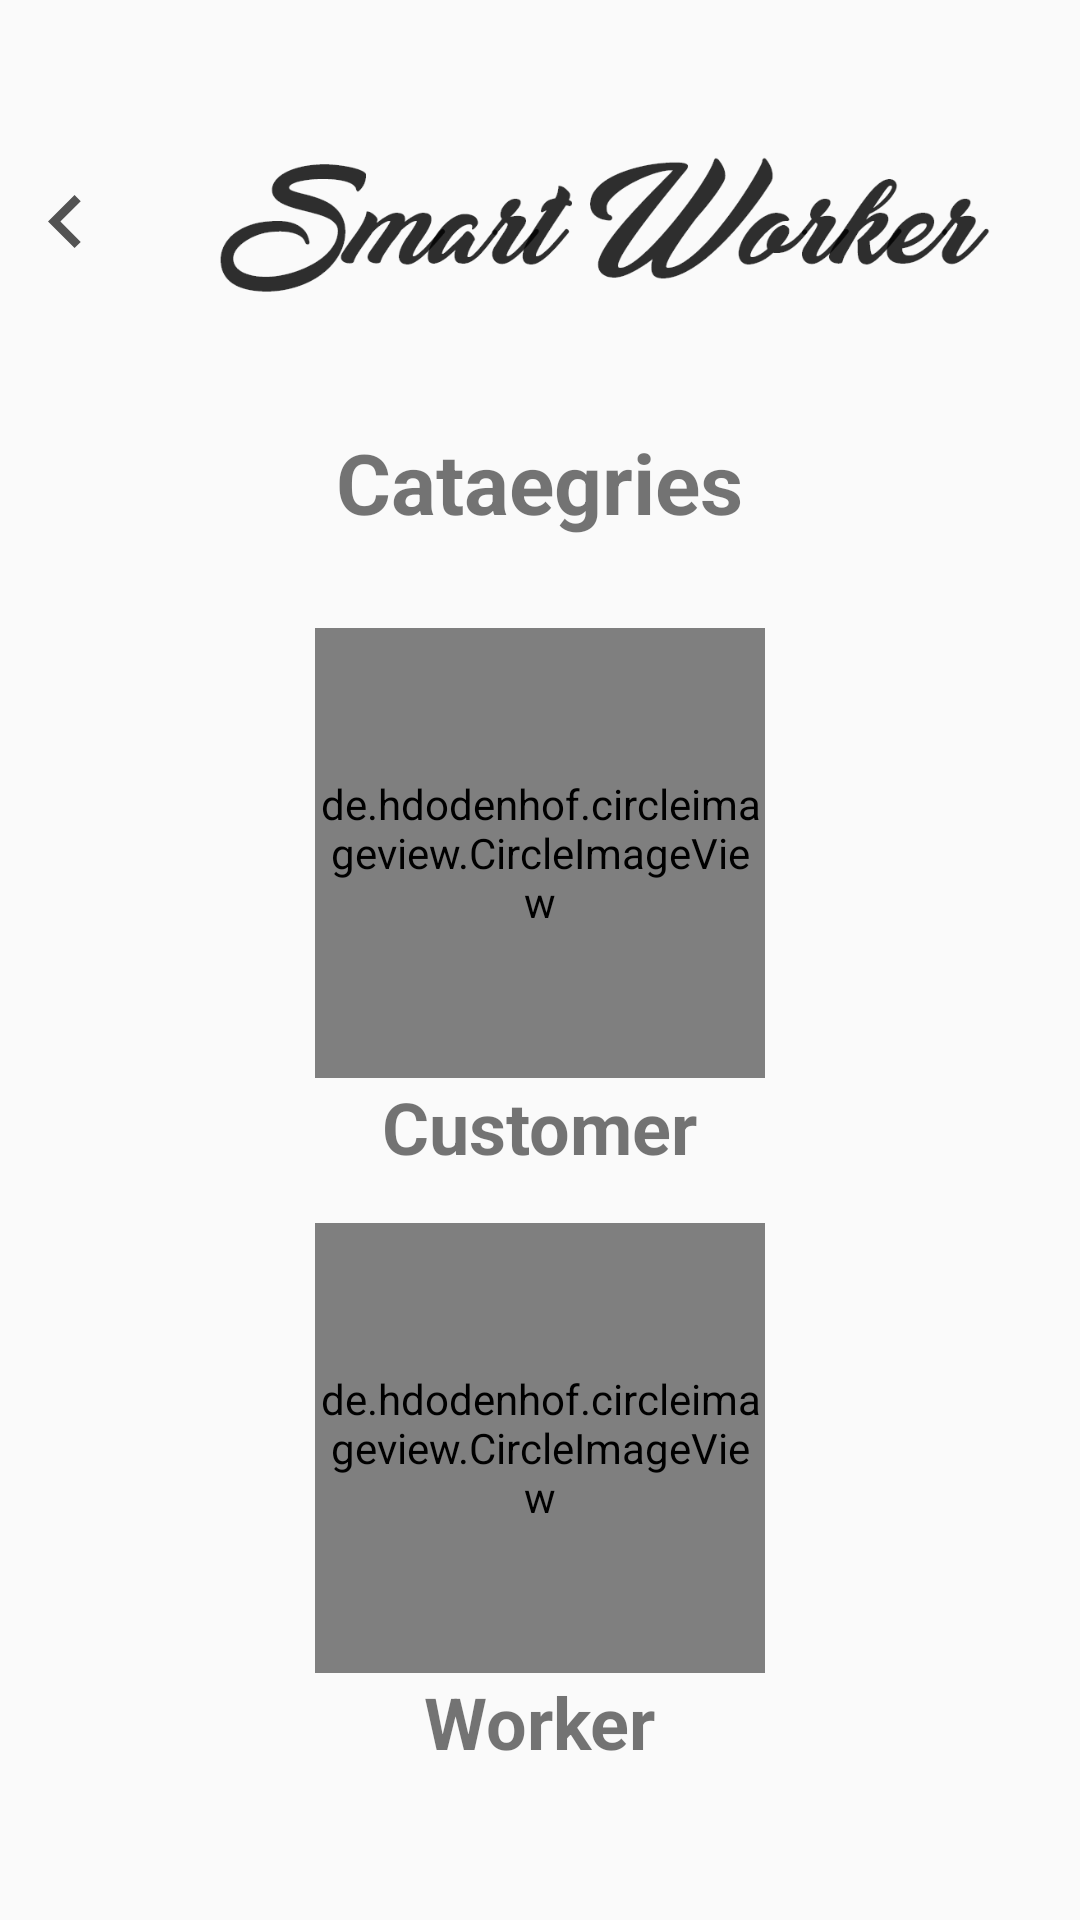

Named icons in this screenshot (1080 × 1920) and their centers, [x,y]:
back: [64,221]
